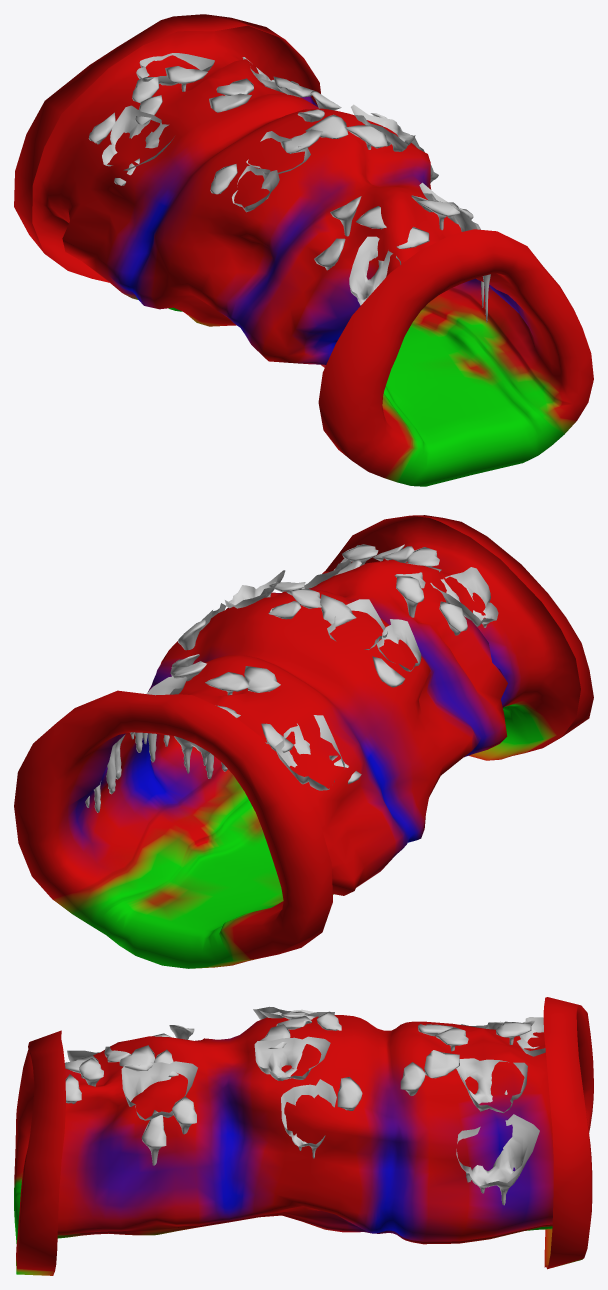
The model's file is cave_tunnel_straight_02_stalactites.dae.
3 views of the same model, one above another, from view 1: azimuth 30°, elevation 25°; view 2: azimuth 150°, elevation 25°; view 3: azimuth 270°, elevation 25° (orthographic). The views are drawn at different scales.
Parts seen in each view (by area): view 1: tunnel_straight_02, stalactites__4_; view 2: tunnel_straight_02, stalactites__4_; view 3: tunnel_straight_02, stalactites__4_.
Boxes of the visible parts, box(x1,y1,x2,y2) form: tunnel_straight_02: box(14, 14, 593, 486); stalactites__4_: box(88, 53, 490, 322); tunnel_straight_02: box(14, 515, 593, 968); stalactites__4_: box(85, 544, 498, 812); tunnel_straight_02: box(14, 997, 593, 1275); stalactites__4_: box(65, 1006, 545, 1205).
Size of what is drawn, in the model's own units: 8.02 by 6.75 by 14.56.
